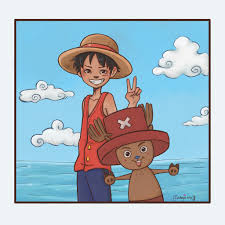chopper: (86, 102, 171, 171)
luffy: (57, 34, 133, 88)
